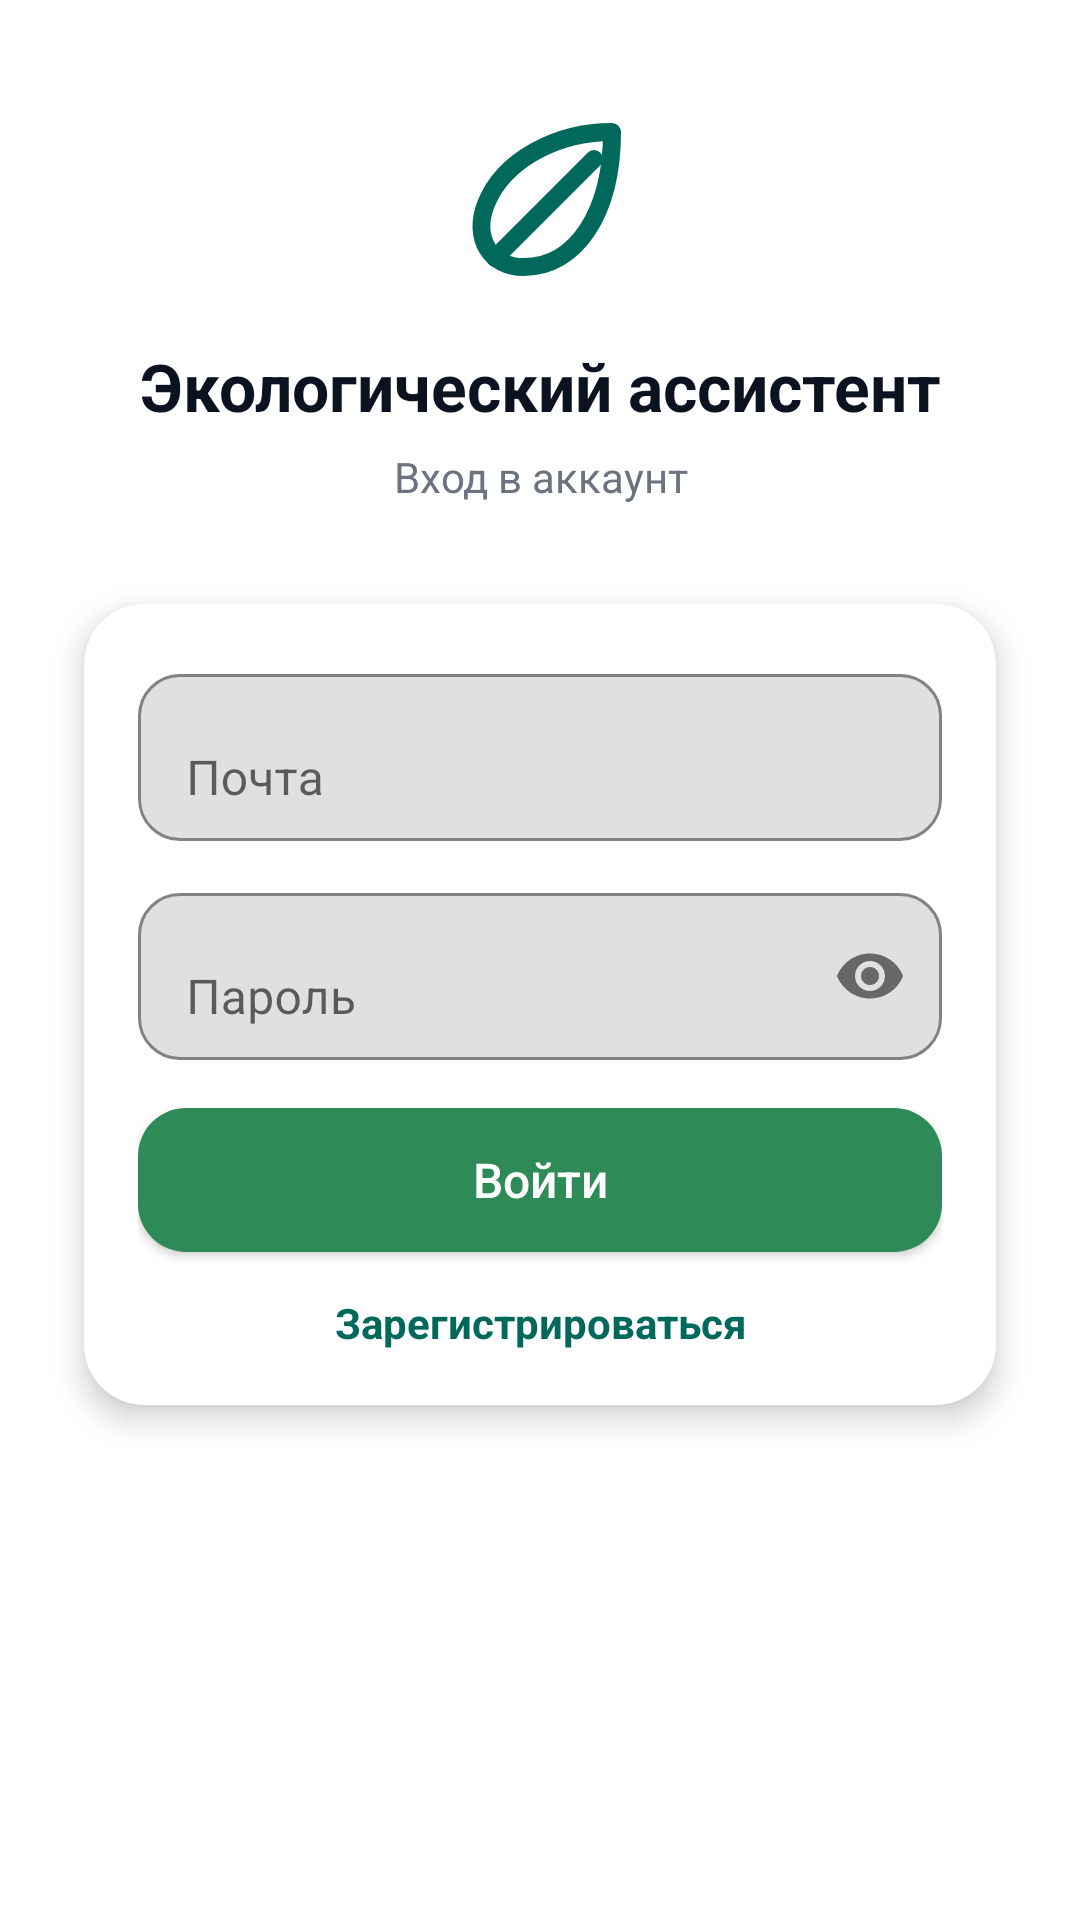

Icon bounding boxes for this 1080*1920 phone screenshot, format bbox(x1, y1, x2, y2):
leaf: bbox(472, 123, 621, 276)
